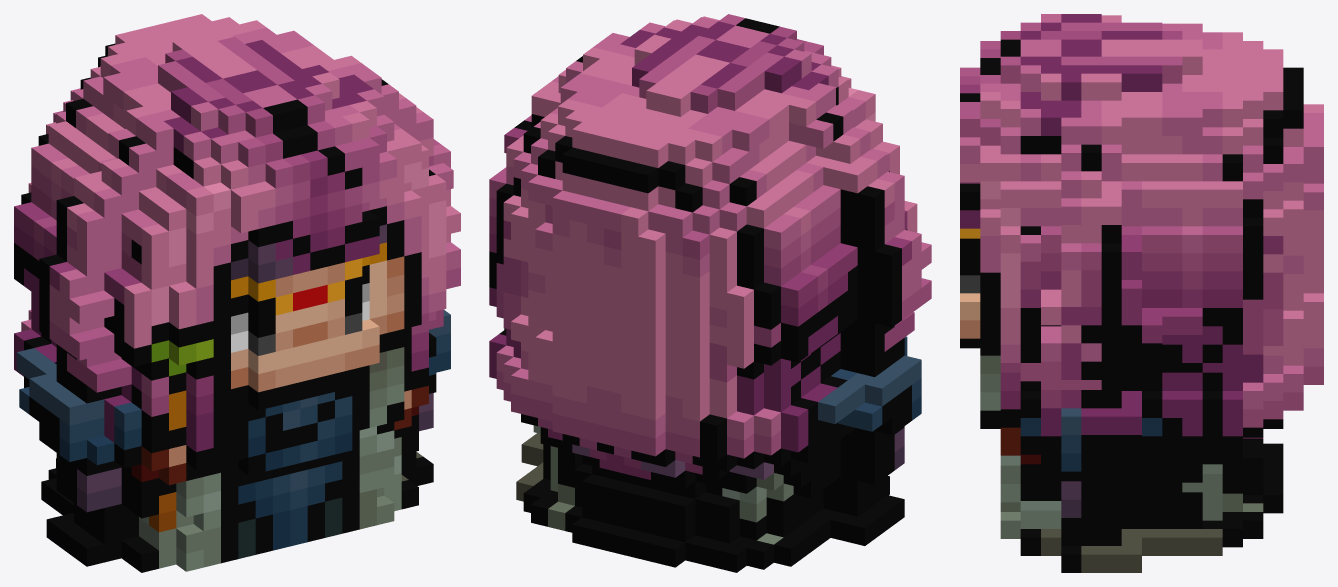
File: Icon_108_01.obj
3 views of the same model, side by side, from view 1: azimuth 30°, elevation 25°; view 2: azimuth 150°, elevation 25°; view 3: azimuth 270°, elevation 25° (orthographic).
Size of the model in its own units: 2.2 by 2.4 by 1.8.
1 material, 1 textured.
